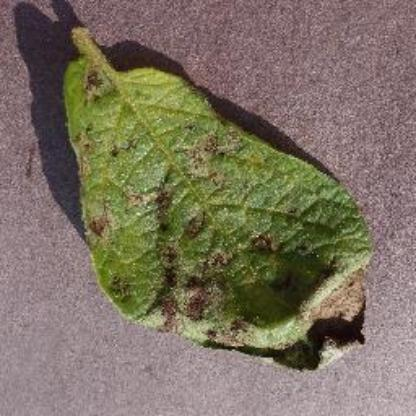Late-Blight: (58, 22, 382, 384)
